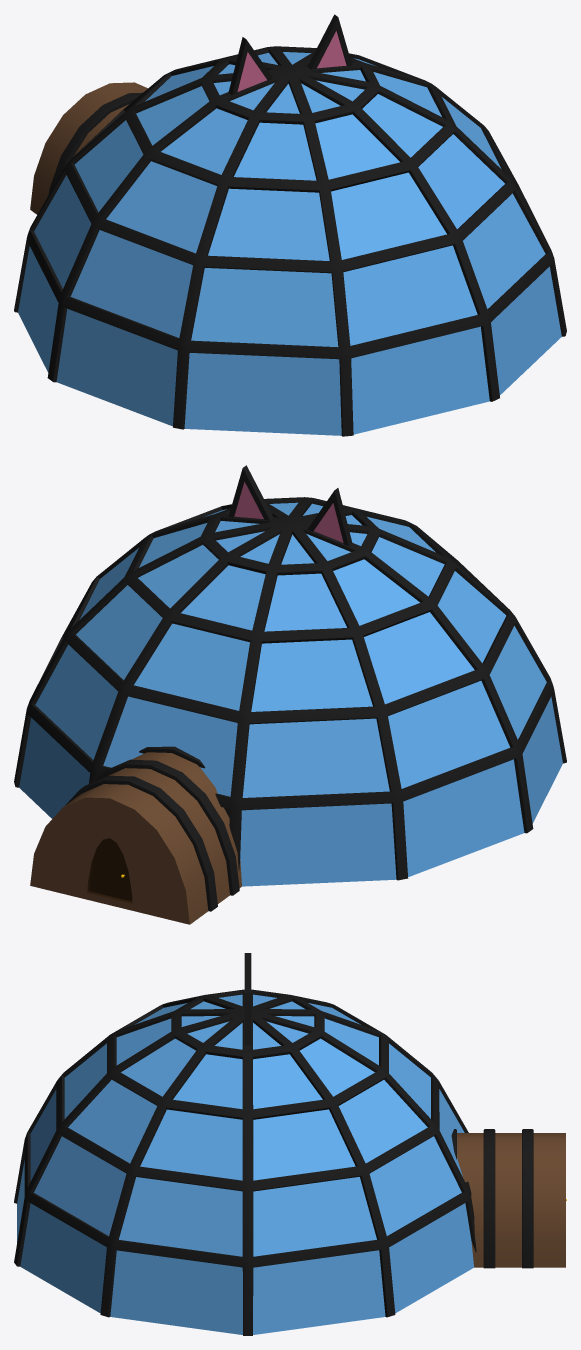
Rendered from spacebuilding1.obj.
3 views of the same model, one above another, from view 1: azimuth 30°, elevation 25°; view 2: azimuth 150°, elevation 25°; view 3: azimuth 270°, elevation 25° (orthographic). The views are drawn at different scales.
Parts seen in each view (by area): view 1: pCylinder3; view 2: pCylinder3; view 3: pCylinder3.
Boxes of the visible parts, left/top/right/bottom form: pCylinder3: left=14, top=14, right=566, bottom=436; pCylinder3: left=14, top=465, right=566, bottom=924; pCylinder3: left=14, top=953, right=566, bottom=1335.
Bounding box in the file's own units: 12.73 × 7.48 × 14.39.
